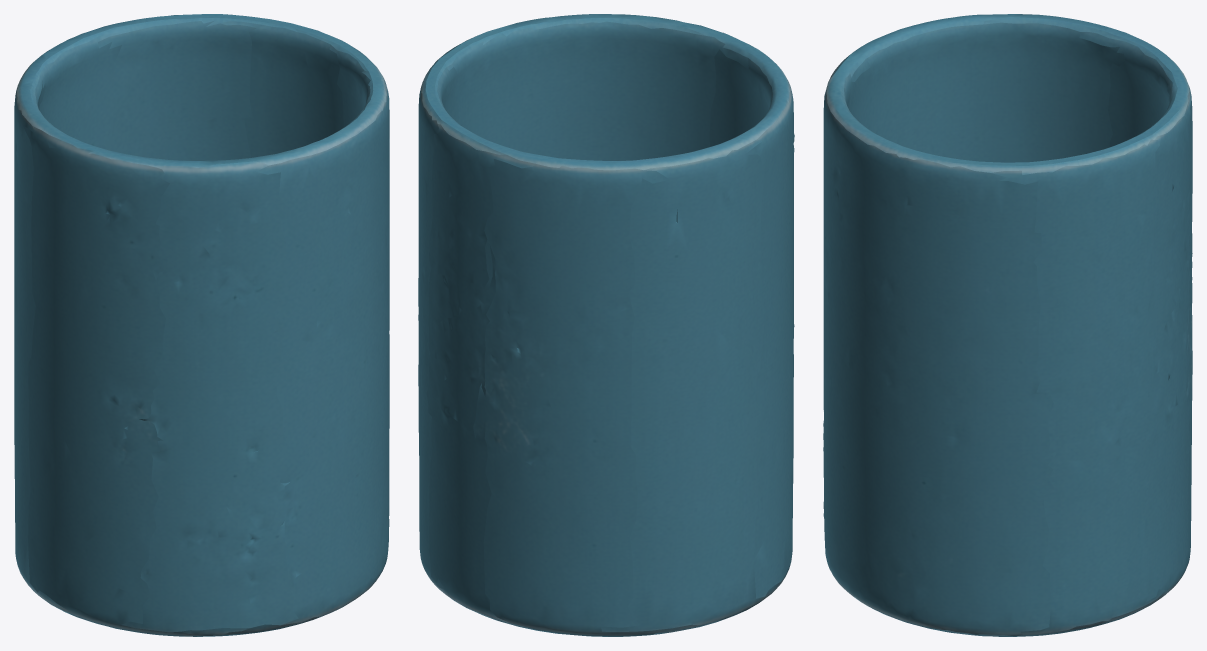
Rendered from original.glb.
The picture shows the model from 3 angles, left to right: view 1: azimuth 30°, elevation 25°; view 2: azimuth 150°, elevation 25°; view 3: azimuth 270°, elevation 25°; orthographic projection.
Visible parts, largest first — view 1: world; view 2: world; view 3: world.
Boxes of the visible parts, x1,y1,x2,y2 form: world: (14, 14, 389, 636); world: (418, 14, 794, 636); world: (823, 14, 1192, 636).
Bounding box in the file's own units: 0.0754 × 0.105 × 0.0743.
1 material, 1 textured.
